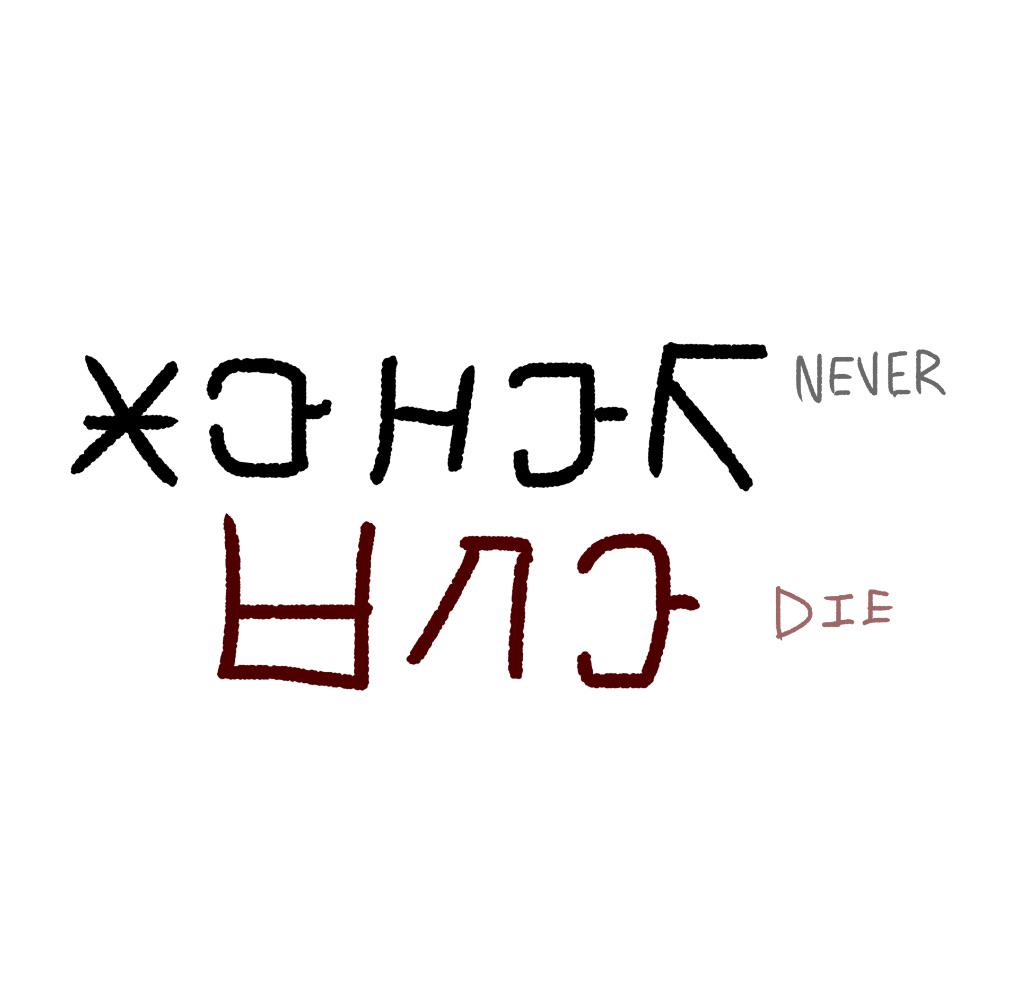D: (210, 506, 381, 701)
E: (569, 529, 708, 702), (500, 350, 632, 490), (204, 350, 341, 483)
I: (405, 522, 542, 685)
N: (66, 344, 186, 491)
R: (637, 334, 776, 499)
V: (366, 354, 481, 490)
